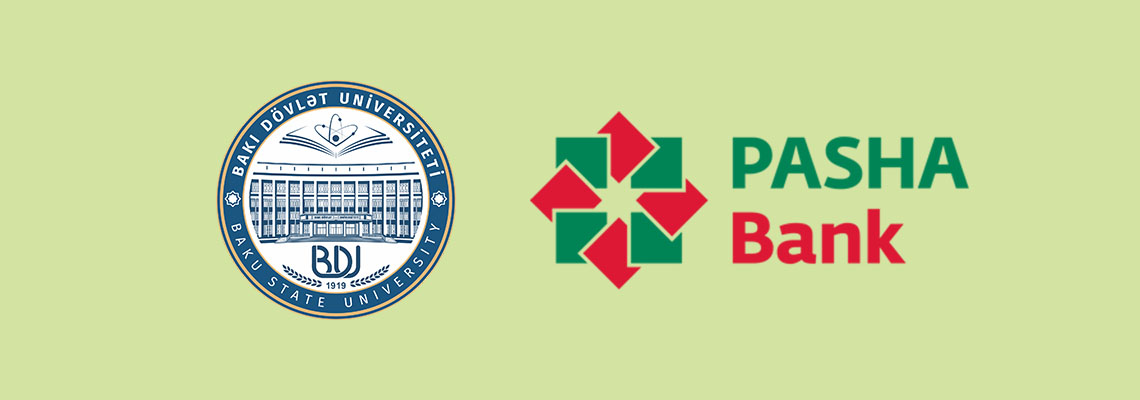Pasha Bank: (525, 104, 712, 293)
